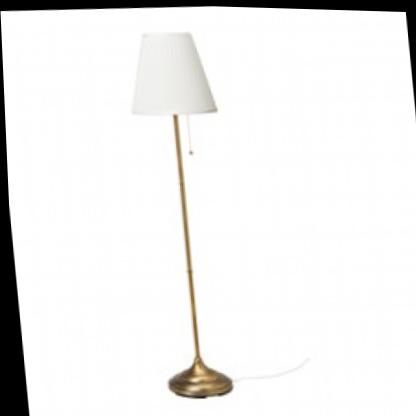Lamp: (110, 16, 247, 409)
